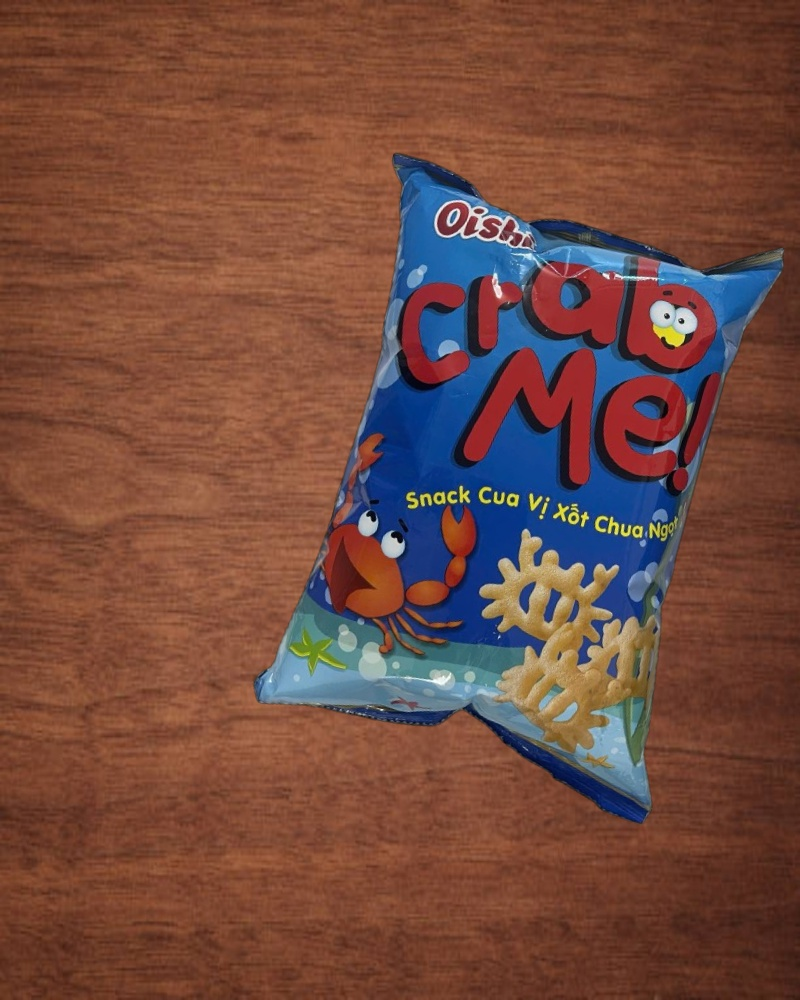Snack chay: (243, 146, 800, 828)
